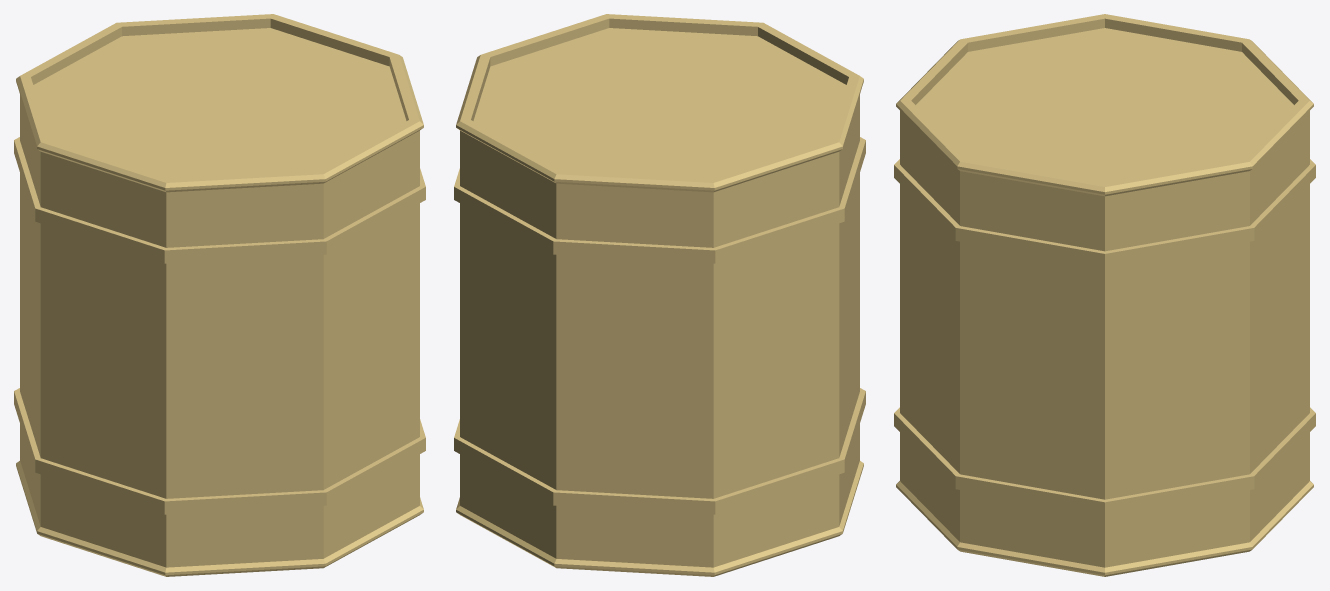
The model's file is Explosion_Barrel.glb.
3 renders of one model, left to right at view 1: azimuth 30°, elevation 25°; view 2: azimuth 150°, elevation 25°; view 3: azimuth 270°, elevation 25°, orthographic.
Visible parts, largest first — view 1: Explosion Barrel; view 2: Explosion Barrel; view 3: Explosion Barrel.
Boxes of the visible parts, x1,y1,x2,y2 form: Explosion Barrel: [14, 14, 425, 576]; Explosion Barrel: [454, 14, 865, 576]; Explosion Barrel: [894, 14, 1315, 576].
Bounding box in the file's own units: 2.06 × 2.1 × 2.06.
Materials: 1 (1 with a texture image).
